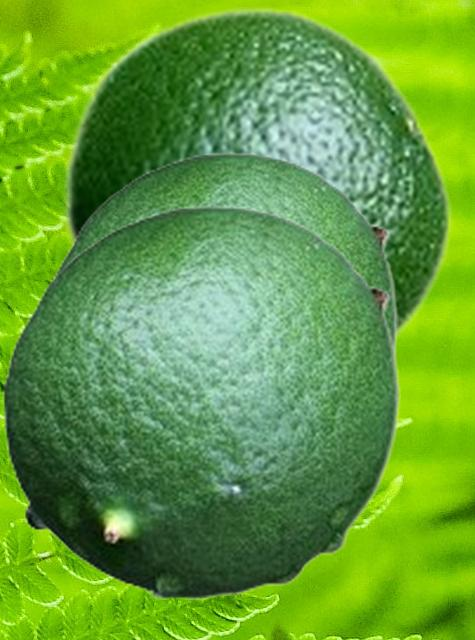calamansi: (2, 204, 399, 598), (61, 5, 453, 341), (47, 151, 397, 348)
